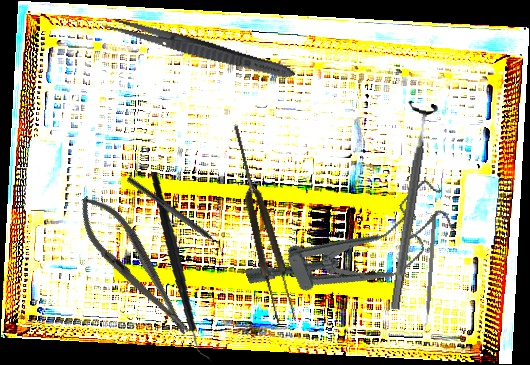Chopper: (130, 171, 232, 361), (121, 175, 231, 259), (418, 213, 437, 331)
Dressing Forceps: (99, 13, 298, 84)
Fixation Ring: (378, 100, 440, 312)
Needle Holder: (66, 185, 203, 347)
Speculum: (238, 176, 464, 327)
Tissue Forceps: (224, 121, 299, 326)
